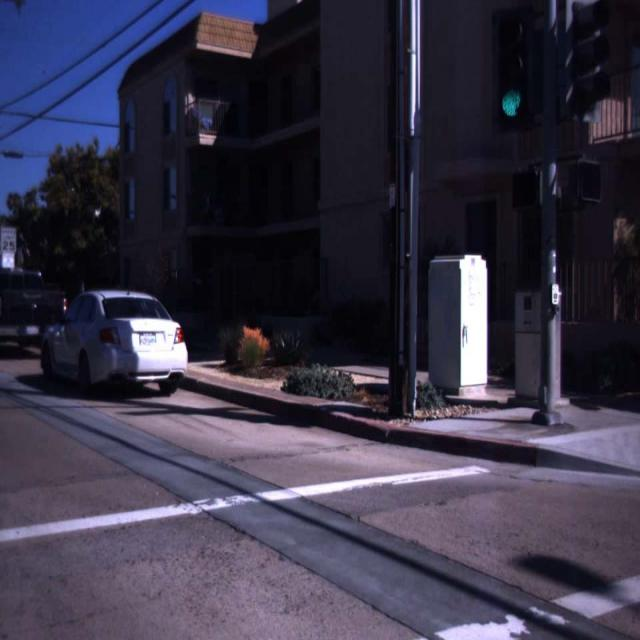yesil: (495, 9, 537, 131)
